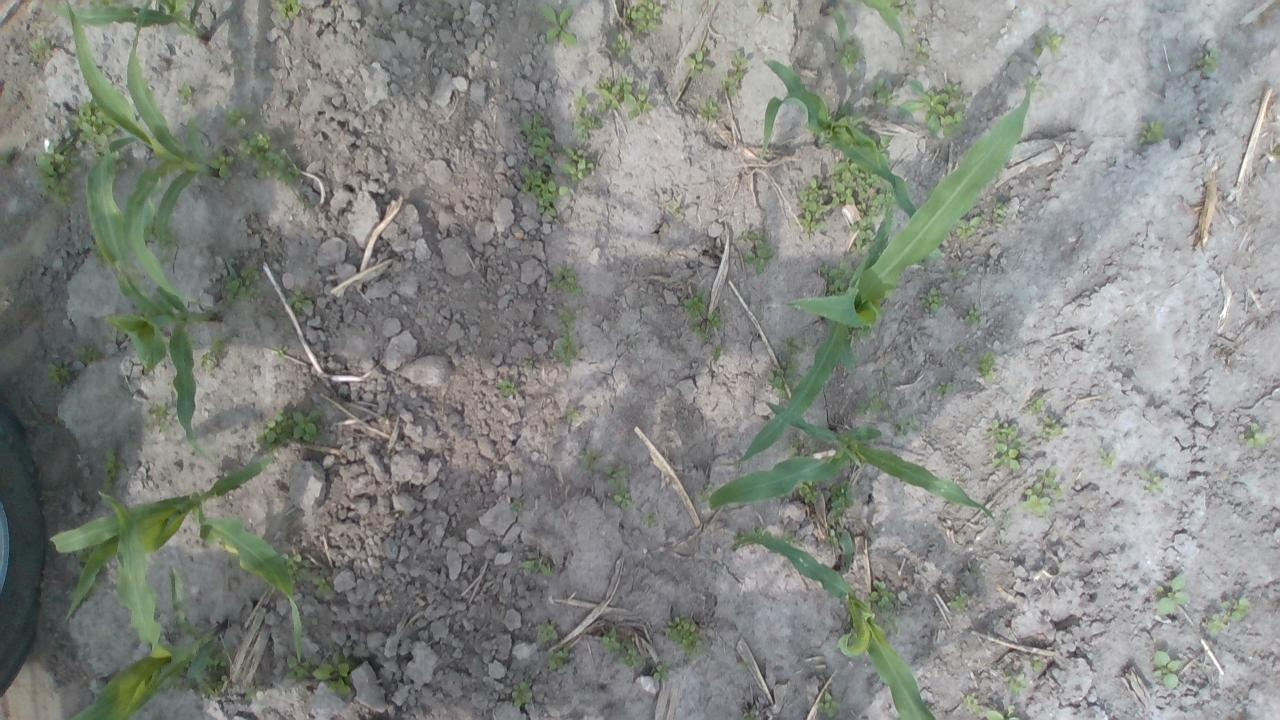Maize: (715, 87, 1031, 468), (52, 454, 304, 665), (60, 0, 222, 305), (703, 398, 1013, 548), (84, 133, 218, 458), (48, 497, 232, 720), (731, 532, 937, 720), (756, 57, 920, 223), (56, 0, 216, 41), (818, 0, 912, 56)
Weeds: (235, 128, 301, 185), (898, 79, 948, 136), (830, 155, 880, 205), (519, 164, 566, 217), (38, 142, 74, 206), (795, 176, 832, 238), (66, 100, 118, 144), (517, 110, 557, 166), (868, 578, 904, 636), (314, 652, 357, 698), (986, 418, 1021, 472), (667, 614, 705, 662), (551, 308, 582, 364), (255, 408, 292, 454), (738, 229, 774, 276), (595, 74, 636, 115), (542, 3, 578, 48), (222, 264, 264, 300), (850, 202, 876, 257), (604, 462, 634, 509), (1156, 574, 1190, 615), (1153, 648, 1185, 691), (560, 146, 594, 186), (819, 260, 854, 298), (721, 50, 748, 98), (627, 0, 662, 37), (766, 359, 798, 399), (551, 262, 584, 298), (1031, 27, 1066, 60), (826, 478, 850, 526), (100, 448, 126, 492), (626, 84, 656, 122), (1022, 483, 1054, 517), (1036, 465, 1065, 502), (1236, 420, 1272, 449), (854, 390, 890, 418), (92, 146, 130, 172), (292, 410, 322, 442), (866, 77, 897, 107), (973, 349, 999, 384), (280, 553, 310, 583), (572, 113, 602, 143), (1139, 465, 1168, 496), (953, 214, 987, 240), (837, 102, 867, 131), (521, 553, 555, 578), (684, 48, 712, 78), (834, 44, 864, 72), (918, 284, 948, 312), (146, 402, 173, 433), (269, 0, 304, 23), (874, 180, 894, 220), (684, 286, 706, 322), (195, 671, 222, 700), (618, 638, 645, 667), (28, 34, 54, 64), (285, 652, 311, 682), (868, 132, 894, 162), (1034, 415, 1062, 442), (45, 360, 72, 388), (1138, 118, 1166, 144), (941, 110, 965, 140), (894, 412, 924, 436), (510, 680, 534, 709), (208, 151, 234, 177), (816, 691, 842, 717), (1002, 672, 1030, 695), (1197, 47, 1219, 76), (168, 668, 192, 694), (1222, 596, 1250, 618), (986, 704, 1024, 720), (992, 197, 1012, 226), (946, 83, 970, 107), (207, 642, 230, 667), (77, 342, 103, 364), (546, 646, 568, 672), (797, 479, 819, 505), (610, 33, 633, 57), (845, 325, 874, 344), (287, 288, 312, 310), (889, 0, 917, 19), (696, 96, 718, 120), (88, 243, 110, 266), (162, 229, 182, 254), (224, 106, 246, 128), (312, 576, 334, 598), (961, 692, 982, 715), (912, 42, 932, 66), (570, 86, 586, 116), (580, 449, 602, 470), (783, 336, 804, 358), (496, 378, 519, 398), (1207, 611, 1225, 636), (603, 628, 620, 654), (1095, 445, 1116, 466), (242, 684, 264, 704), (1024, 72, 1044, 92), (654, 662, 674, 682), (947, 592, 967, 612), (688, 324, 712, 340), (963, 306, 982, 326), (210, 333, 228, 354), (538, 624, 558, 642), (178, 81, 195, 102), (934, 380, 956, 396), (707, 307, 722, 330), (696, 484, 714, 503), (711, 341, 725, 365), (142, 219, 156, 241), (1029, 655, 1045, 674), (645, 510, 660, 530), (750, 524, 771, 538), (947, 267, 967, 281), (1030, 399, 1046, 416), (198, 352, 214, 369), (782, 529, 799, 545), (565, 404, 580, 422), (667, 202, 684, 217), (824, 528, 839, 545), (788, 439, 802, 454), (524, 354, 536, 371), (1002, 508, 1012, 528), (756, 3, 770, 16), (0, 154, 11, 170), (510, 500, 526, 511), (275, 344, 289, 356), (804, 439, 816, 453), (740, 710, 756, 720), (736, 658, 750, 669), (736, 530, 748, 541)
